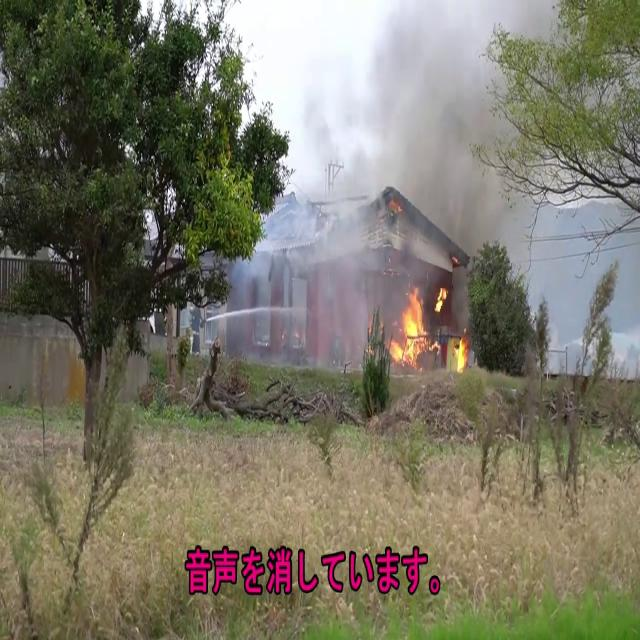Fire: (389, 280, 430, 365), (448, 328, 470, 376)
Smoke: (240, 100, 394, 347), (389, 0, 516, 266)
